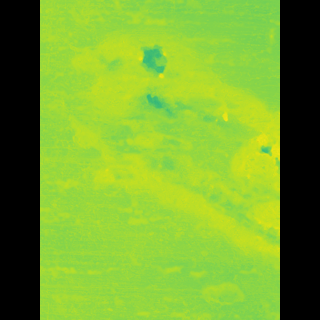Loch: (90, 0, 251, 258)
